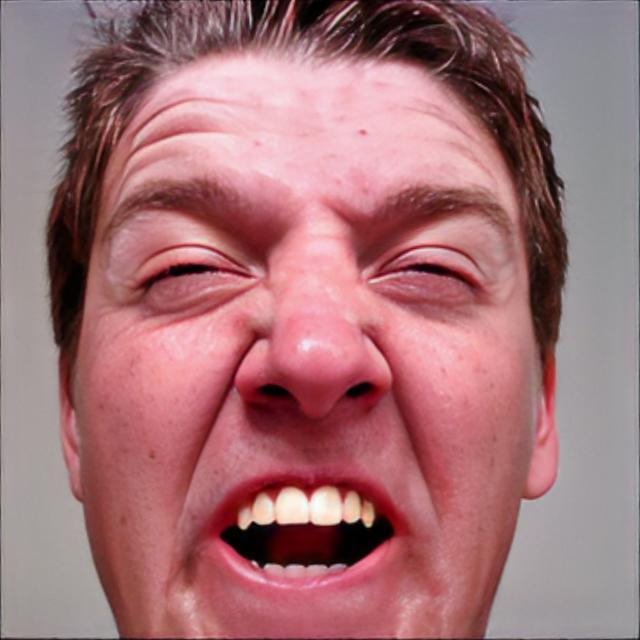disgust: (73, 47, 534, 640)
